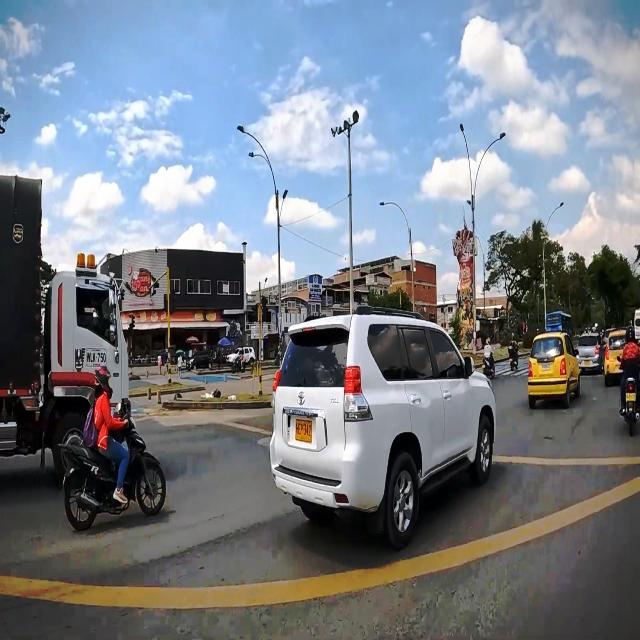license_plate: (294, 417, 313, 443), (86, 348, 107, 368)
